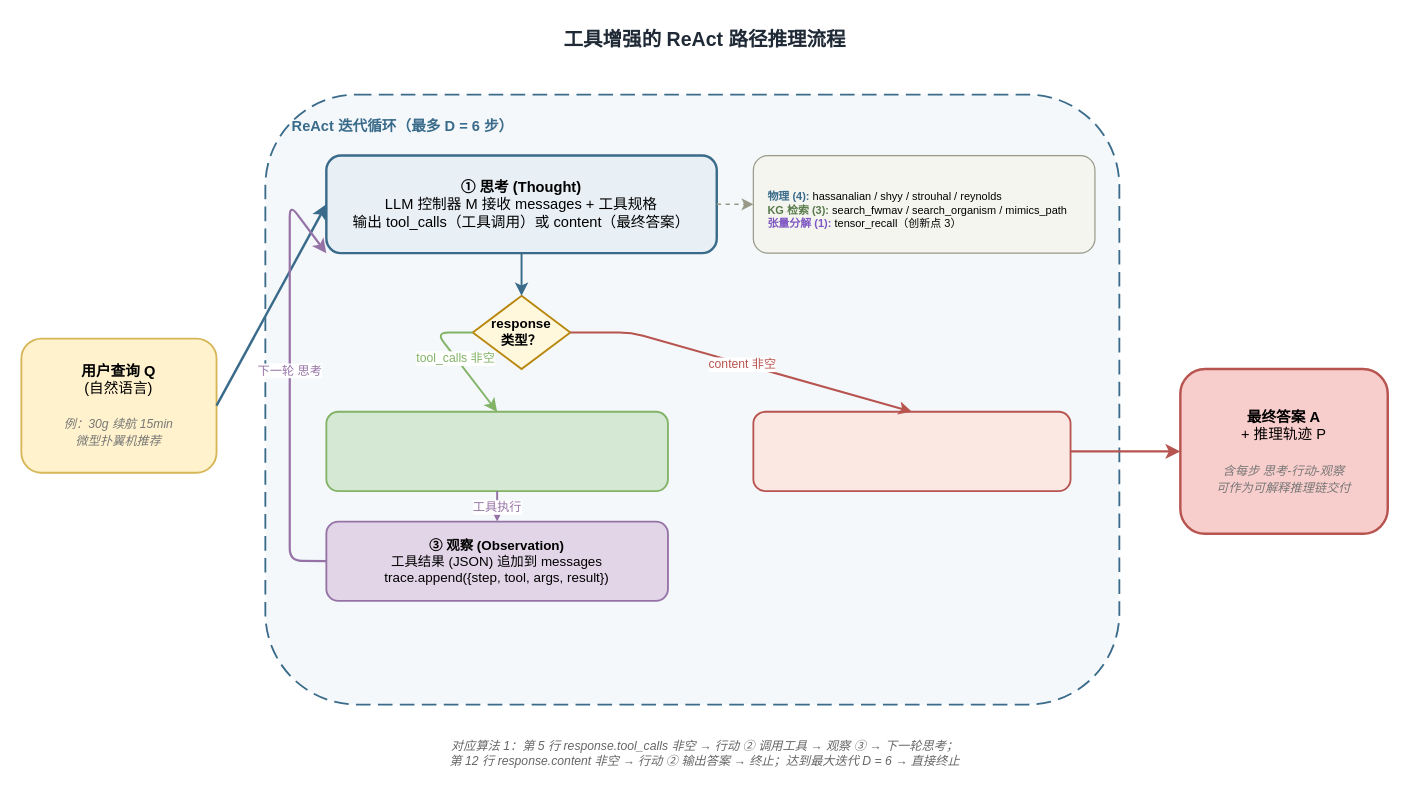
Image size: 1410x798. Some labels were removed from this diagram. Each missing label, with the box of its shape:
② 行动: 给出答案 A = response.content trace.append(final_answer): (752, 410, 1071, 491)
② 行动: 调用工具 tname, args = response.tool_calls result = T.call(tname, **args): (325, 410, 668, 491)
工具集 T (4+3+1=8): (752, 154, 1095, 253)
